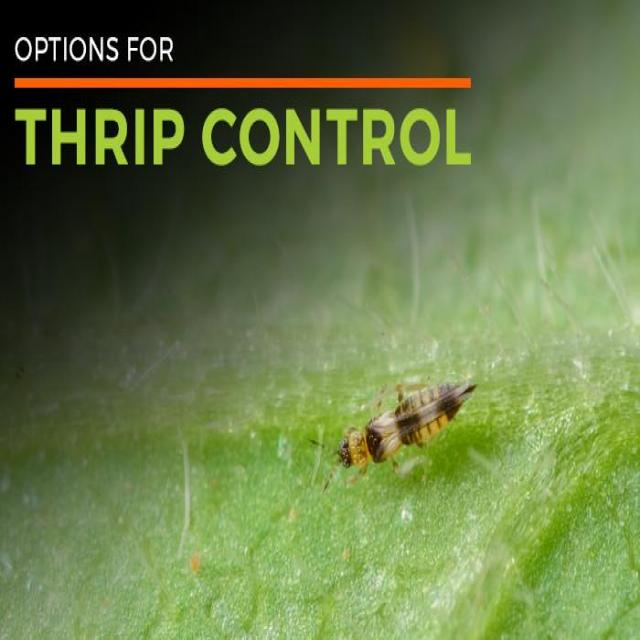Thrip-Adult-: (302, 365, 484, 500)
